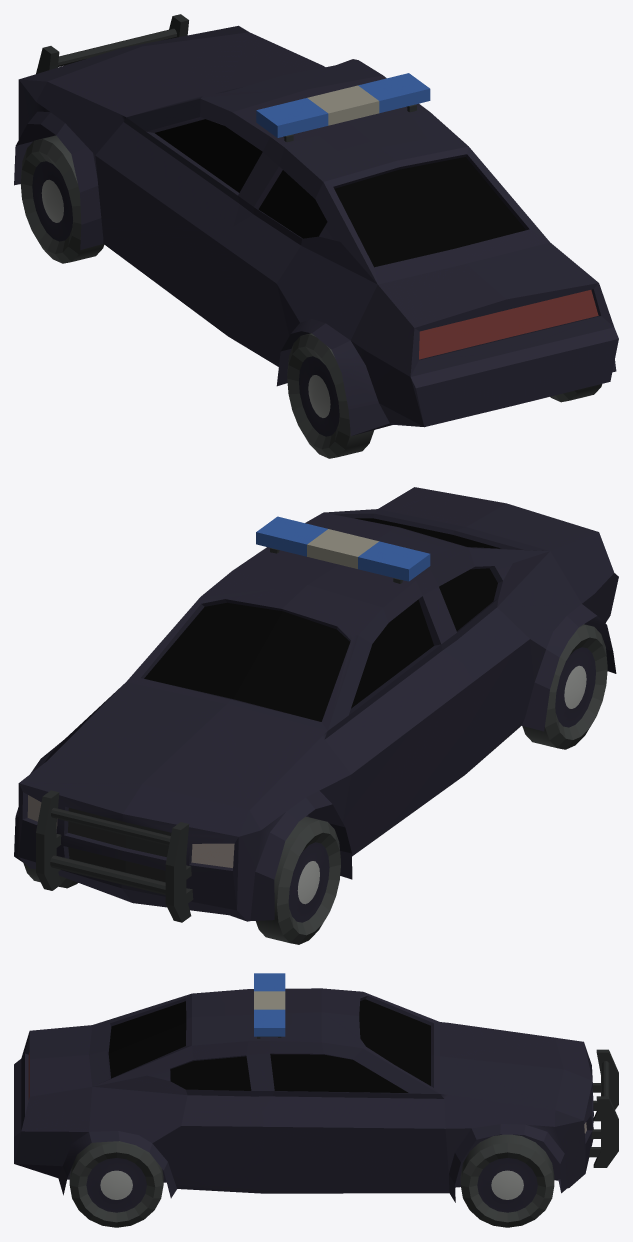
File: gtpd_compressed.glb
3 renders of one model, top to bottom at view 1: azimuth 30°, elevation 25°; view 2: azimuth 150°, elevation 25°; view 3: azimuth 270°, elevation 25°, orthographic. The views are drawn at different scales.
Parts seen in each view (by area): view 1: left_half; view 2: left_half; view 3: left_half.
Boxes of the visible parts, box(x1,y1,x2,y2) form: left_half: box(14, 14, 618, 458); left_half: box(14, 487, 618, 944); left_half: box(14, 973, 618, 1227).
Bounding box in the file's own units: 0.0839 × 0.0729 × 0.2203.
Materials: 1 (1 with a texture image).
